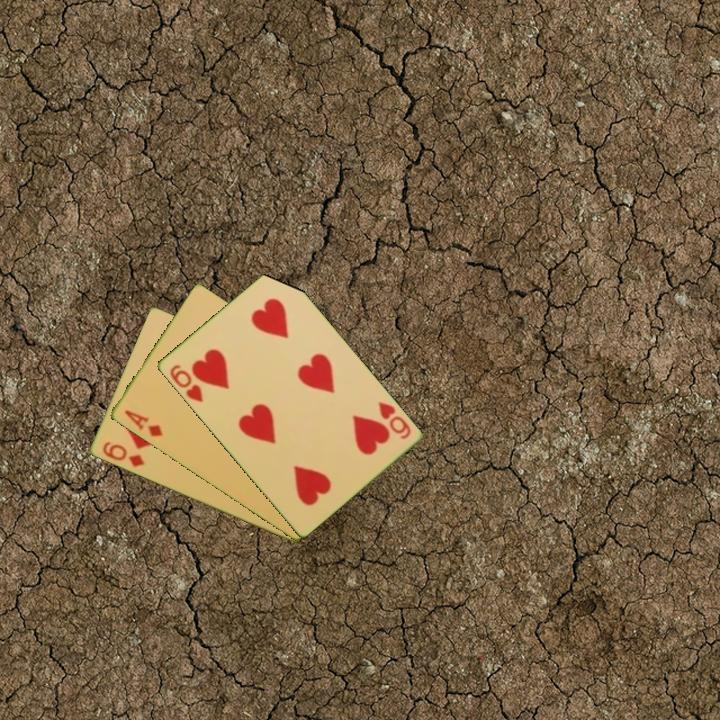6d: (98, 438, 147, 470)
6h: (166, 361, 206, 405), (374, 398, 413, 442)
Ad: (121, 406, 165, 440)
